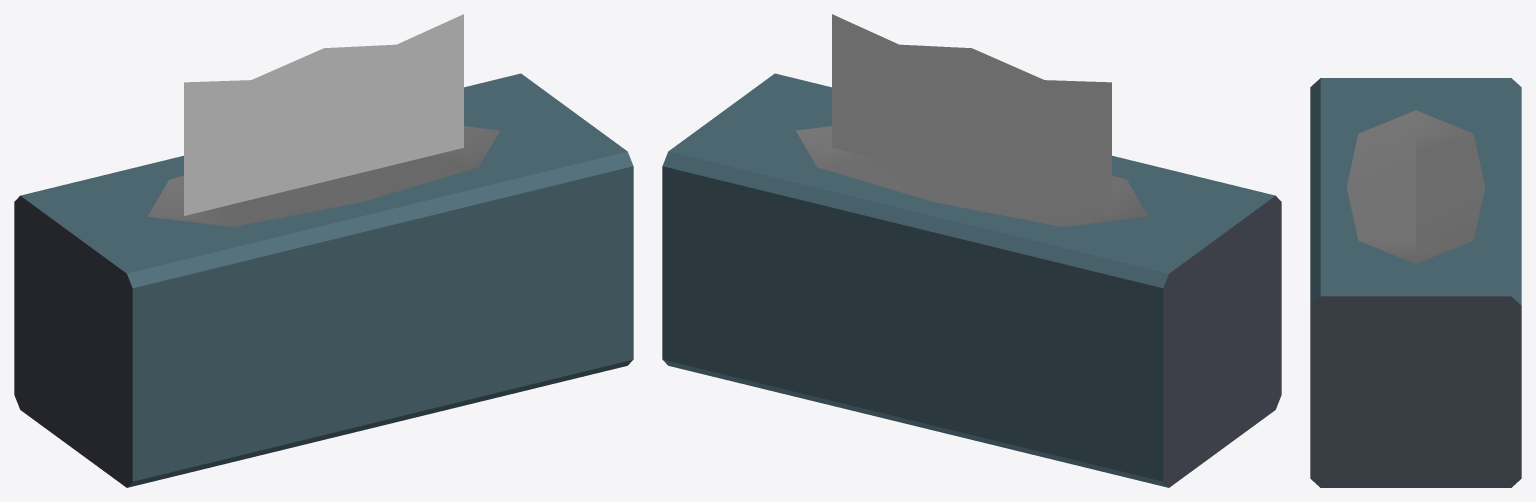
The model's file is tissuebox.glb.
3 renders of one model, left to right at view 1: azimuth 30°, elevation 25°; view 2: azimuth 150°, elevation 25°; view 3: azimuth 270°, elevation 25°, orthographic. The views are drawn at different scales.
Visible parts, largest first — view 1: Cube; view 2: Cube; view 3: Cube.
Boxes of the visible parts, <box> form: Cube: <box>14,14,633,487</box>; Cube: <box>662,14,1281,487</box>; Cube: <box>1310,78,1521,487</box>.
Size of the model in its own units: 28.13 by 18.23 by 11.5.
